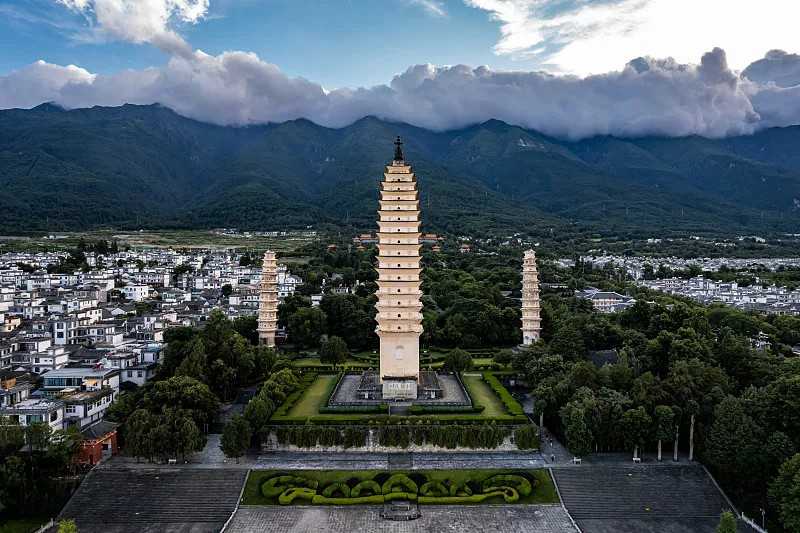ThreePagoda: (374, 135, 424, 385)
